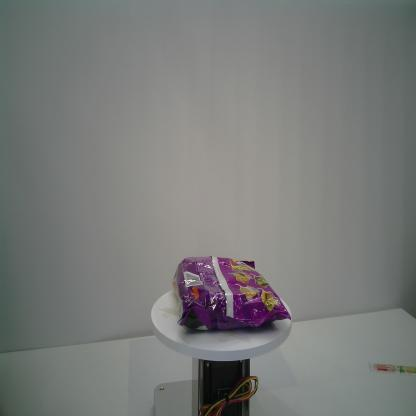Instant Noodles: (172, 254, 292, 332)
